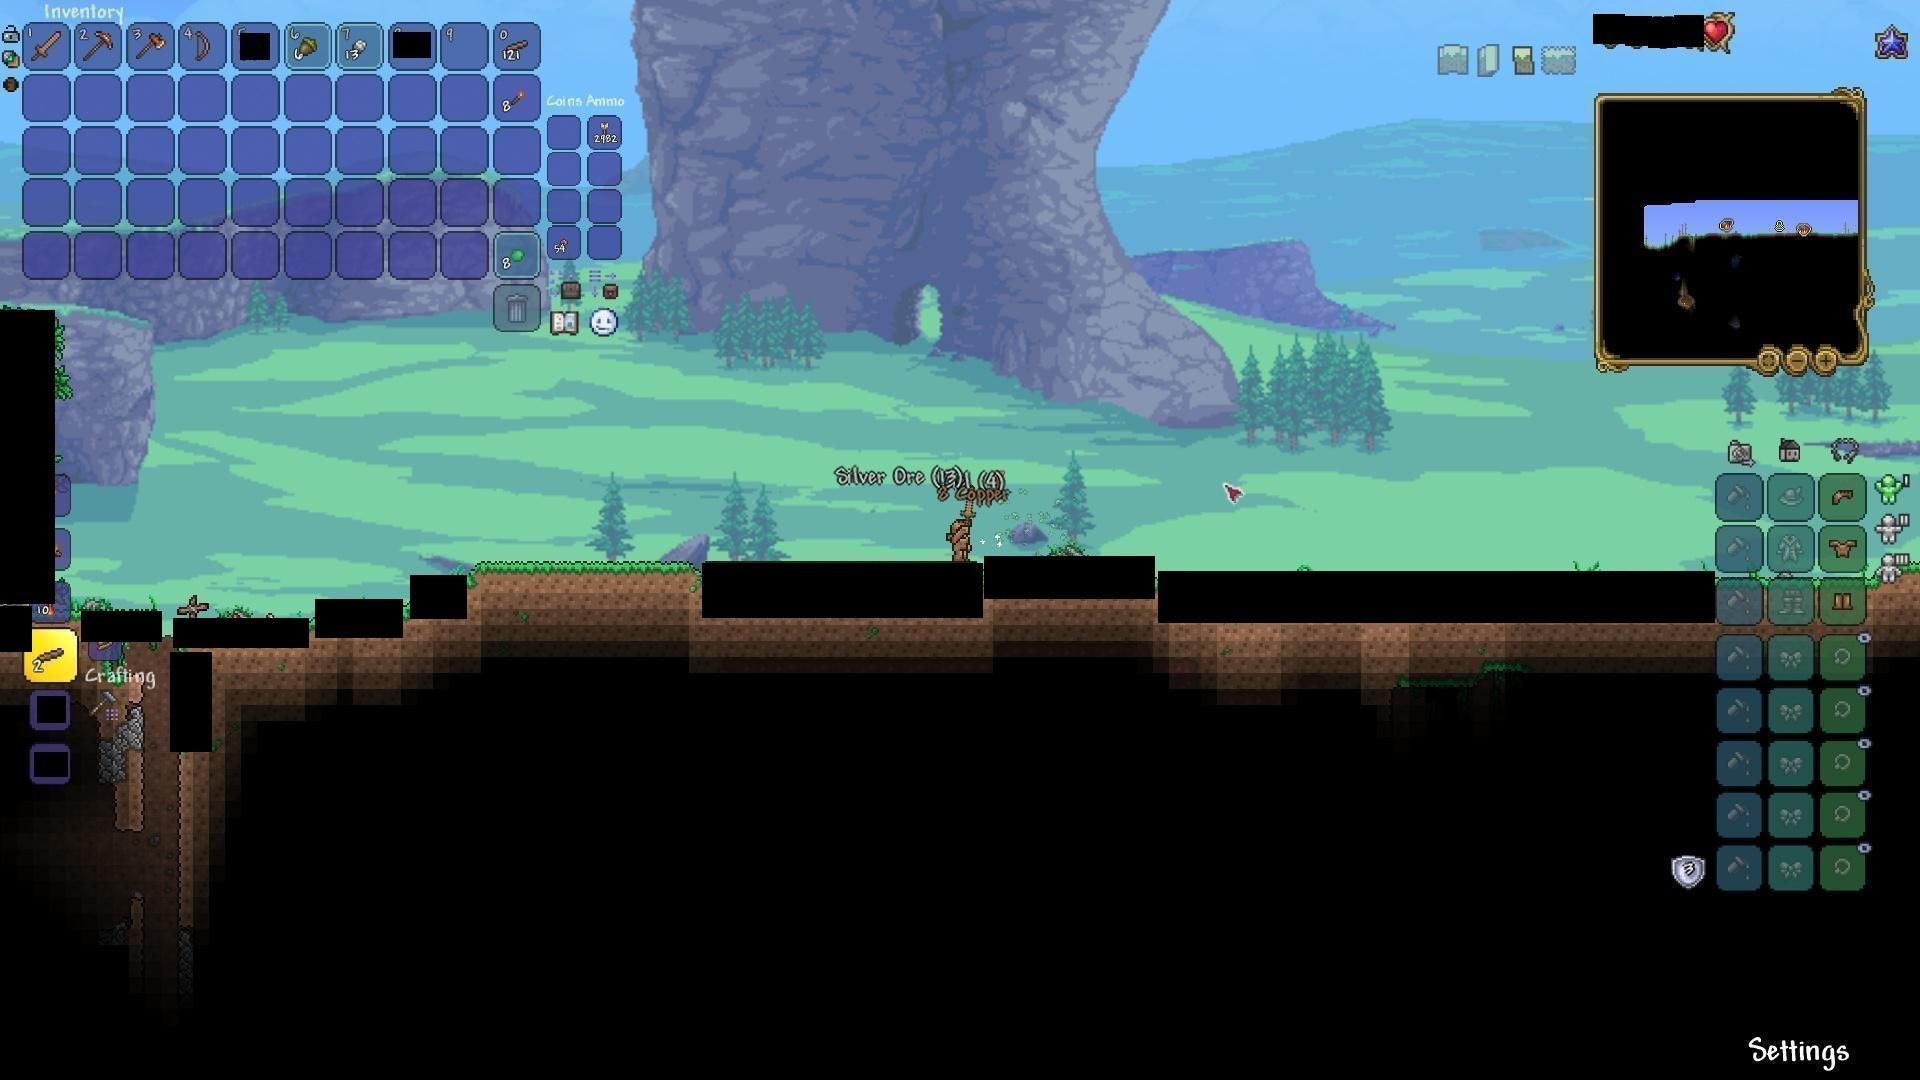breastplate: (1830, 537, 1859, 558)
dirt: (469, 555, 702, 611)
heart: (1704, 16, 1731, 47)
helmet: (1828, 484, 1857, 510)
legs: (1832, 589, 1857, 617)
wood: (88, 629, 120, 659)
